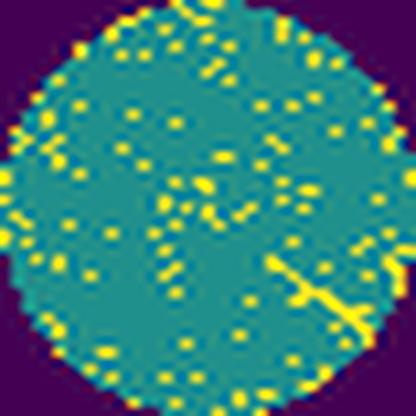Scratch: (262, 250, 380, 352)
